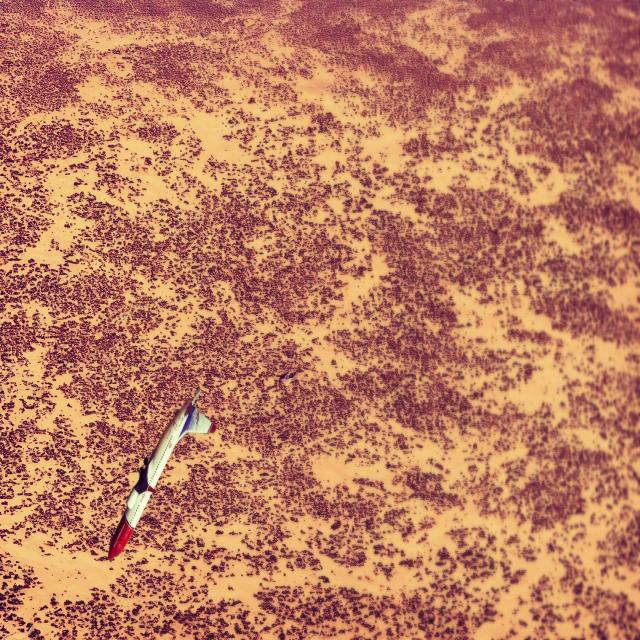airplane: (107, 385, 215, 562)
